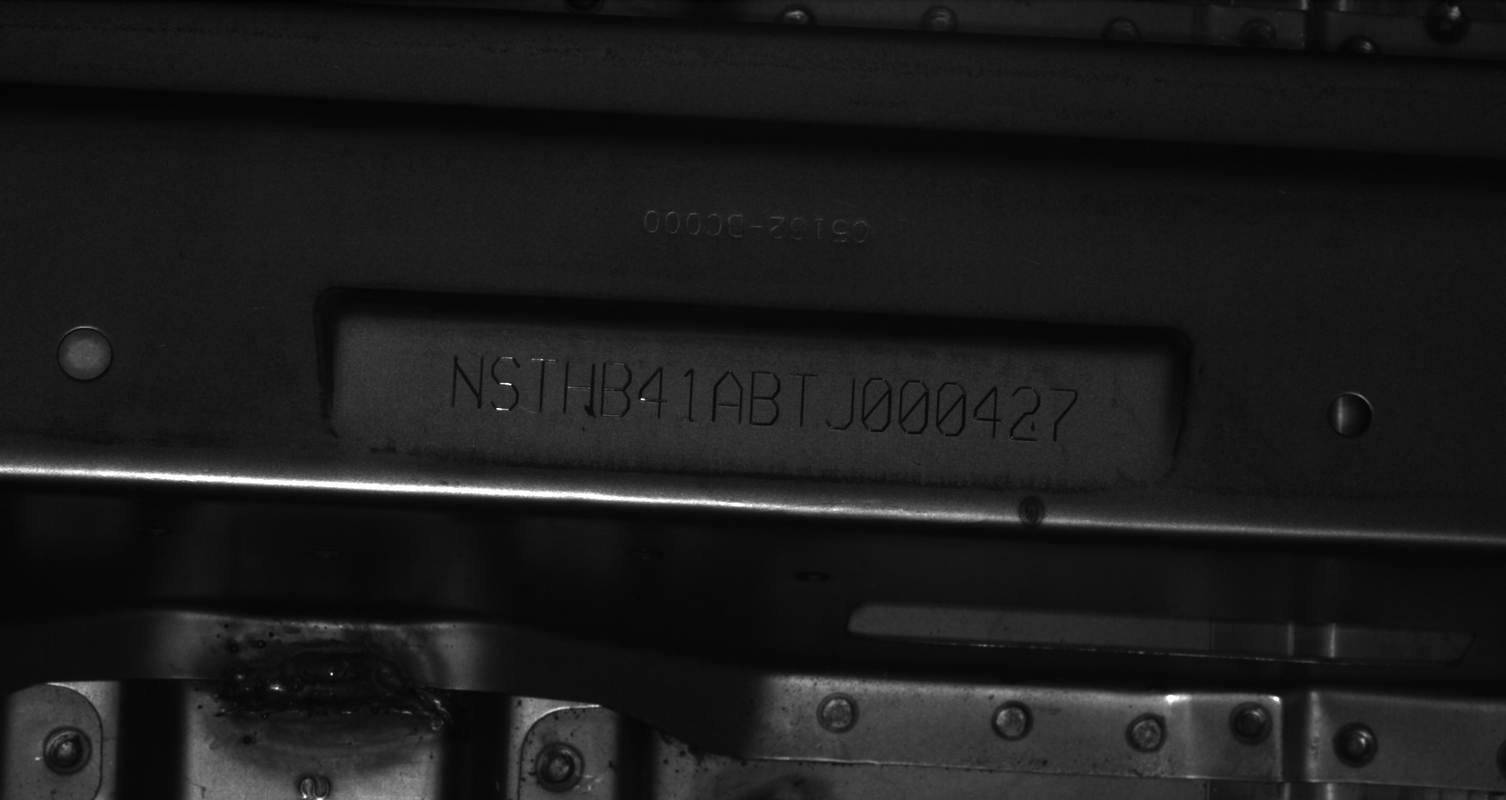bl7m_vin_plate: (332, 315, 1167, 480)
